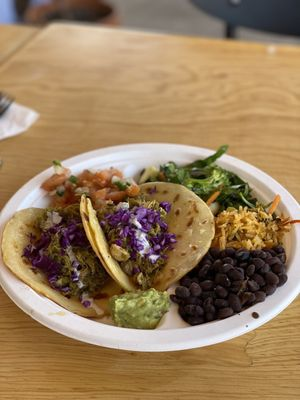curry: (159, 144, 257, 210), (110, 288, 172, 330)
sushi: (0, 100, 300, 352)
